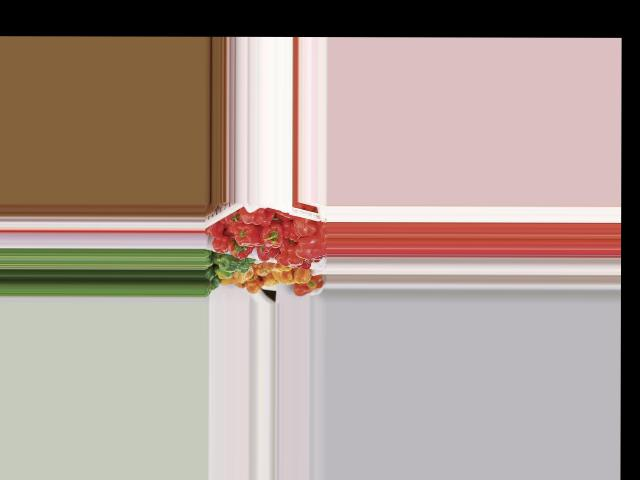bell_pepper: (239, 205, 275, 225)
